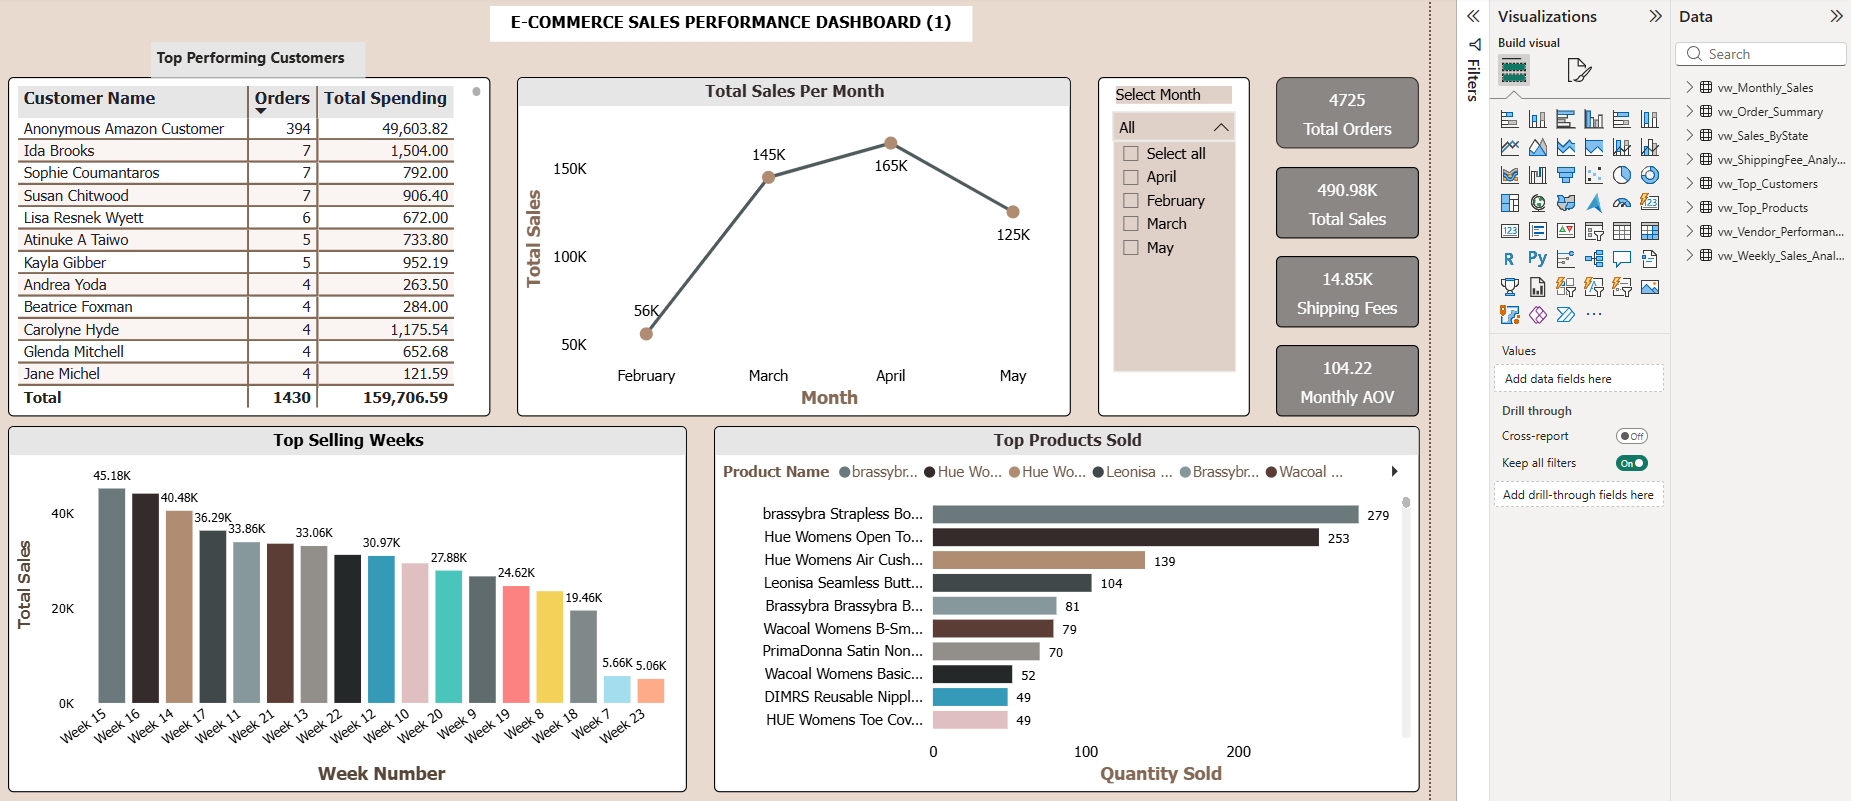

This screenshot's page, from the dashboard's own definition file:
{"tool":"powerbi","page":{"name":"Page 1","canvas":[1280,720],"ordinal":0},"visuals":[{"type":"textbox","box":[440,8,432,32],"z":0},{"type":"lineChart","title":"Total Sales Per Month","fields":{"Y":["Sum(vw_Order_Summary.Total_Revenue)"],"Category":["vw_Order_Summary.Order_Date.Variation.Date Hierarchy.Month"]},"box":[464,72,496,304],"z":1000},{"type":"tableEx","fields":{"Values":["vw_Top_Customers.Customer_Name","Sum(vw_Top_Customers.Total_Orders)","Sum(vw_Top_Customers.Total_Spending)"]},"box":[8,72,432,304],"z":2000},{"type":"card","fields":{"Values":["Sum(vw_Monthly_Sales.Total_Orders)"]},"box":[1144,72,128,64],"z":3000},{"type":"card","fields":{"Values":["Sum(vw_Monthly_Sales.Total_Revenue)"]},"box":[1144,152,128,64],"z":4000},{"type":"card","fields":{"Values":["Avg(vw_Monthly_Sales.Avg_Order_Value)"]},"box":[1144,312,128,64],"z":5000},{"type":"barChart","title":"Top Products Sold","fields":{"Category":["vw_Top_Products.Item_Name"],"Y":["Sum(vw_Top_Products.Quantity_Sold)"],"Series":["vw_Top_Products.Item_Name"]},"box":[640,384,632,328],"z":6000},{"type":"slicer","fields":{"Values":["vw_Monthly_Sales.Months"]},"box":[984,72,136,304],"z":7000},{"type":"card","fields":{"Values":["Sum(vw_ShippingFee_Analysis.Total_Shipping_Fees)"]},"box":[1144,232,128,64],"z":8000},{"type":"columnChart","title":"Top Selling Weeks","fields":{"Category":["vw_Weekly_Sales_Analysis.Week_Number"],"Y":["Sum(vw_Weekly_Sales_Analysis.Total_Weekly_Sales)"],"Series":["vw_Weekly_Sales_Analysis.Week_Number"]},"box":[8,384,608,328],"z":9000},{"type":"textbox","box":[136,40,192,32],"z":10000}]}

Visuals, with their boxes on the page's 1280x720 design canvas (x1, y1, x2, y2). These are canvas units, not pixel positions in the 1851x801 screenshot, which may show the page scaled, cropped or inside an application window:
textbox: left=440, top=8, right=872, bottom=40
"Total Sales Per Month" lineChart: left=464, top=72, right=960, bottom=376
tableEx - vw_Top_Customers.Customer_Name x Sum(vw_Top_Customers.Total_Orders): left=8, top=72, right=440, bottom=376
card - Sum(vw_Monthly_Sales.Total_Orders): left=1144, top=72, right=1272, bottom=136
card - Sum(vw_Monthly_Sales.Total_Revenue): left=1144, top=152, right=1272, bottom=216
card - Avg(vw_Monthly_Sales.Avg_Order_Value): left=1144, top=312, right=1272, bottom=376
"Top Products Sold" barChart: left=640, top=384, right=1272, bottom=712
slicer - vw_Monthly_Sales.Months: left=984, top=72, right=1120, bottom=376
card - Sum(vw_ShippingFee_Analysis.Total_Shipping_Fees): left=1144, top=232, right=1272, bottom=296
"Top Selling Weeks" columnChart: left=8, top=384, right=616, bottom=712
textbox: left=136, top=40, right=328, bottom=72
